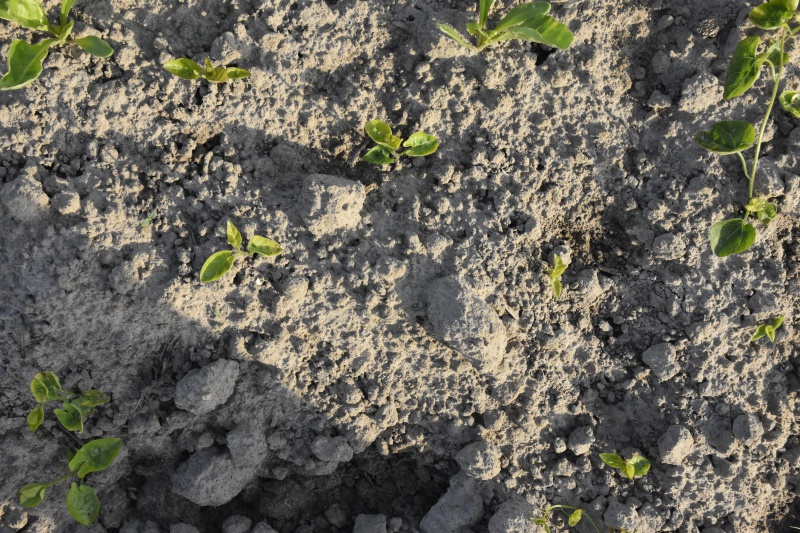field bindweed: (697, 8, 800, 262), (18, 434, 126, 525), (195, 219, 284, 284), (19, 375, 108, 433), (359, 121, 441, 174), (161, 55, 271, 89), (596, 450, 650, 484), (544, 251, 567, 304), (751, 314, 787, 343)
sugar beet: (1, 1, 122, 92), (438, 2, 574, 56)
